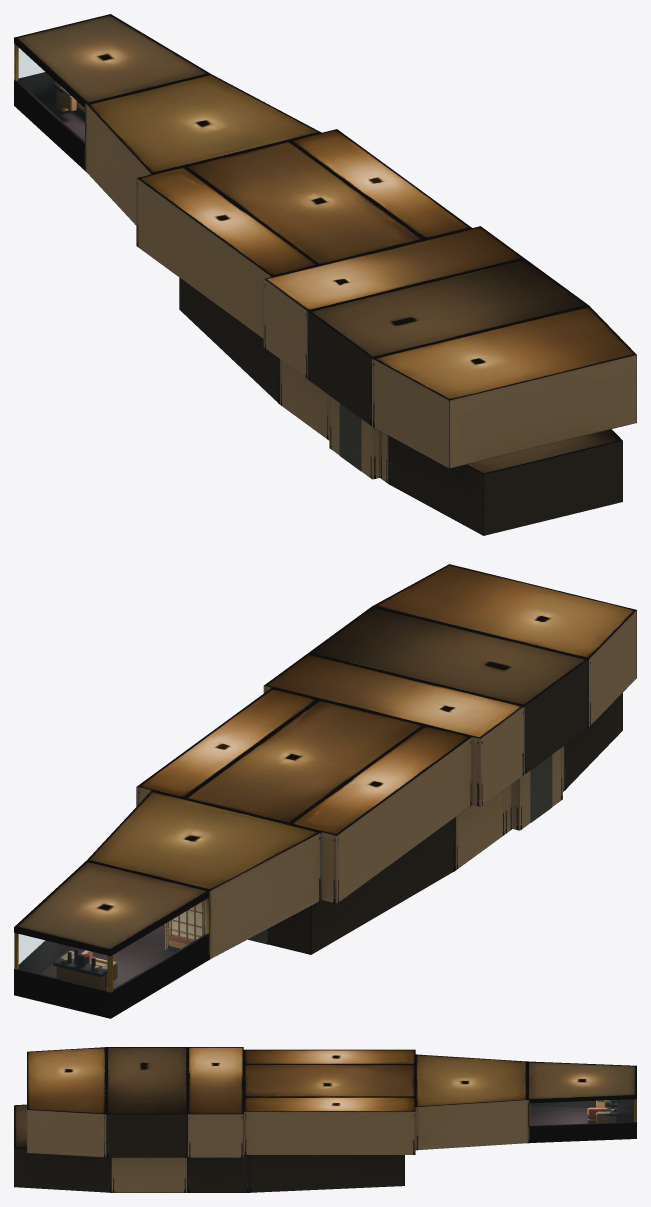
Rendered from empress.glb.
The picture shows the model from 3 angles, top to bottom: view 1: azimuth 30°, elevation 25°; view 2: azimuth 150°, elevation 25°; view 3: azimuth 270°, elevation 25°; orthographic projection. The views are drawn at different scales.
Parts seen in each view (by area): view 1: room_08, room_07, room_02, room_14, room_04, room_03, room_01, room_06, room_05, room_09, room_13, room_10; view 2: room_01, room_02, room_07, room_04, room_08, room_03, room_06, room_09, room_05, room_13, room_10, room_14; view 3: room_02, room_05, room_07, room_01, room_08, room_06, room_03, room_09, room_14, room_04, room_12, room_11.
Boxes of the visible parts, x1,y1,x2,y2 form: room_08: [372, 305, 636, 468]; room_07: [307, 258, 588, 425]; room_02: [86, 74, 321, 225]; room_14: [388, 429, 622, 535]; room_04: [136, 166, 318, 338]; room_03: [184, 140, 424, 265]; room_01: [14, 14, 210, 171]; room_06: [263, 226, 523, 378]; room_05: [290, 129, 471, 239]; room_09: [179, 277, 279, 404]; room_13: [329, 395, 379, 479]; room_10: [280, 359, 328, 440]; room_01: [14, 860, 210, 1018]; room_02: [87, 790, 321, 958]; room_07: [308, 606, 588, 773]; room_04: [290, 725, 472, 903]; room_08: [372, 564, 636, 726]; room_03: [184, 699, 424, 823]; room_06: [263, 653, 524, 806]; room_09: [248, 817, 455, 954]; room_05: [136, 688, 318, 806]; room_13: [512, 747, 562, 830]; room_10: [456, 789, 504, 869]; room_14: [564, 693, 622, 790]; room_02: [415, 1054, 527, 1150]; room_05: [243, 1097, 415, 1154]; room_07: [106, 1047, 187, 1157]; room_01: [527, 1061, 636, 1143]; room_08: [27, 1047, 106, 1157]; room_06: [188, 1047, 243, 1157]; room_03: [243, 1064, 415, 1096]; room_09: [249, 1155, 404, 1192]; room_14: [14, 1104, 111, 1192]; room_04: [243, 1049, 415, 1064]; room_12: [111, 1157, 186, 1192]; room_11: [187, 1155, 249, 1192].
Size of the model in its own units: 7.4 by 4.36 by 29.01.
Materials: 25 (15 with a texture image).
